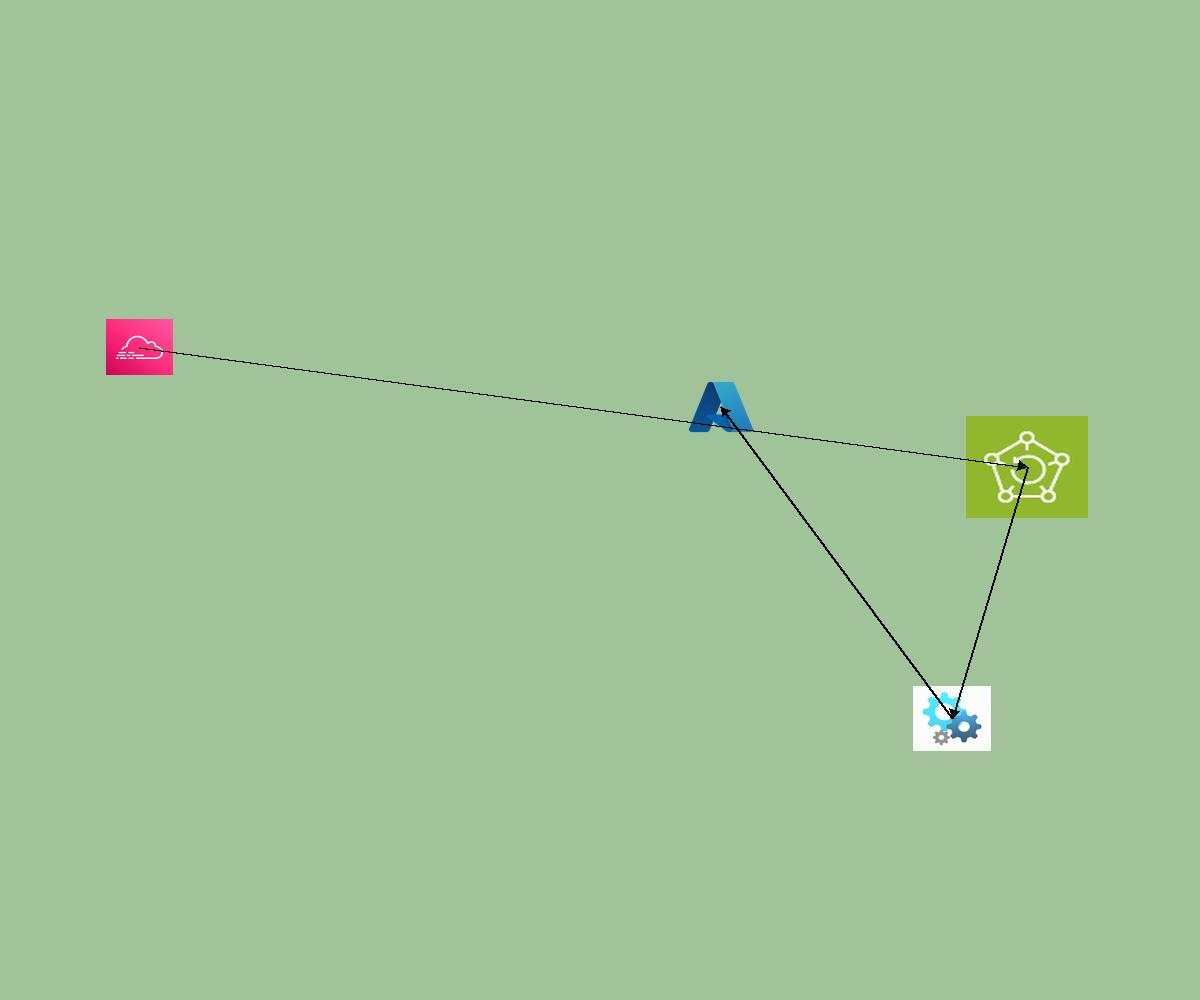AWS-Backup: (966, 416, 1088, 518)
AWS-CloudTrail: (106, 319, 173, 375)
Azure_api: (913, 686, 991, 751)
Azure_services: (686, 378, 756, 436)
